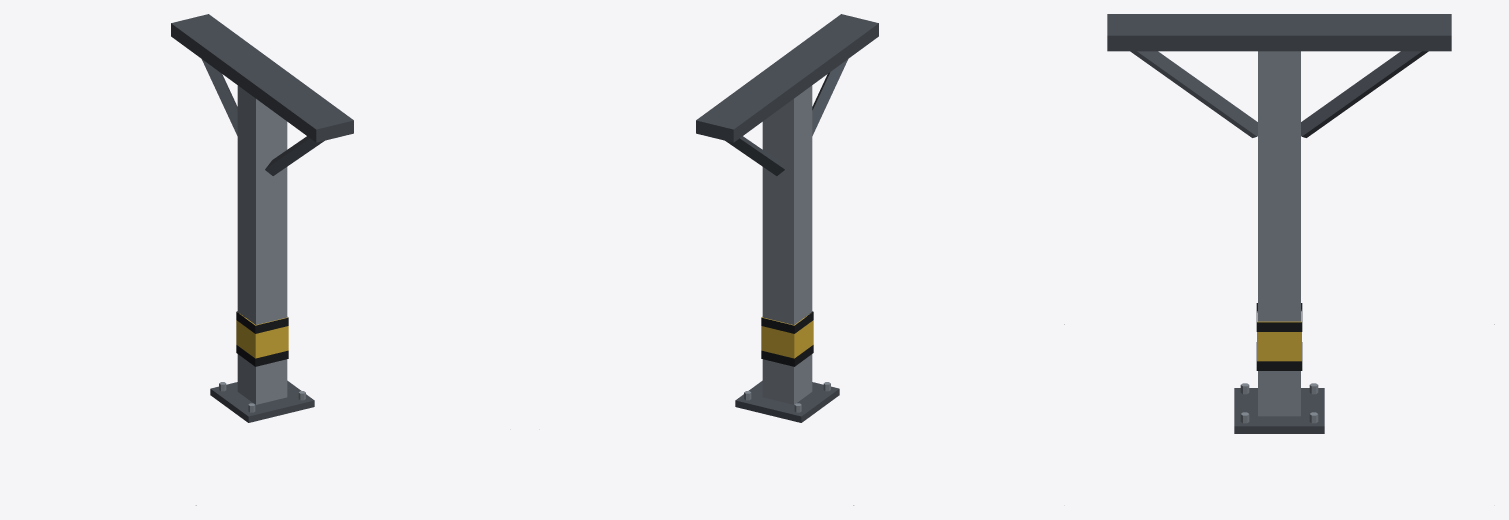
Rendered from pilier_convoyeur_t1.glb.
3 renders of one model, left to right at view 1: azimuth 30°, elevation 25°; view 2: azimuth 150°, elevation 25°; view 3: azimuth 270°, elevation 25°, orthographic. The views are drawn at different scales.
Parts seen in each view (by area): view 1: pieces_acier.016, pieces_acier_sombre.016, pieces_jaune.008, pieces_noir.008; view 2: pieces_acier.016, pieces_acier_sombre.016, pieces_jaune.008, pieces_noir.008; view 3: pieces_acier_sombre.016, pieces_acier.016, pieces_jaune.008, pieces_noir.008.
Boxes of the visible parts, x1,y1,x2,y2 form: pieces_acier.016: (219, 85, 305, 412); pieces_acier_sombre.016: (171, 14, 353, 422); pieces_jaune.008: (236, 312, 288, 358); pieces_noir.008: (236, 311, 288, 366); pieces_acier.016: (744, 85, 830, 412); pieces_acier_sombre.016: (696, 14, 878, 422); pieces_jaune.008: (761, 314, 813, 358); pieces_noir.008: (761, 311, 813, 366); pieces_acier_sombre.016: (1107, 14, 1451, 433); pieces_acier.016: (1240, 51, 1318, 423); pieces_jaune.008: (1257, 310, 1301, 361); pieces_noir.008: (1256, 303, 1302, 370).
Size of the model in its own units: 1 by 1 by 1.
